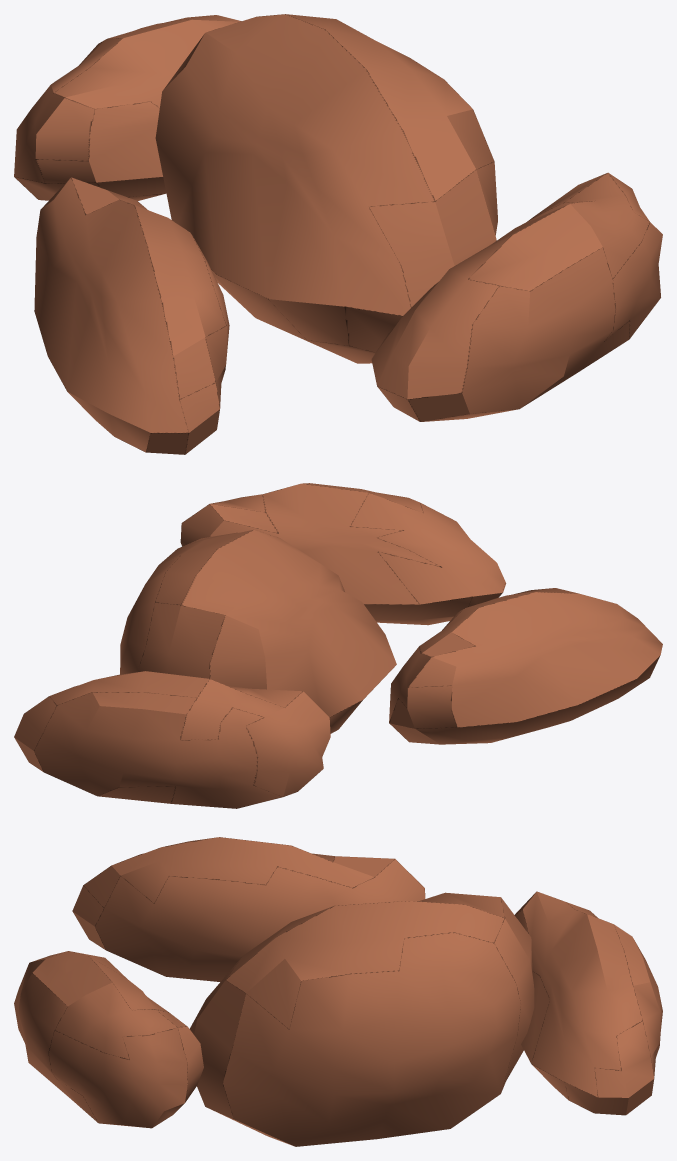
3 renders of one model, top to bottom at view 1: azimuth 30°, elevation 25°; view 2: azimuth 150°, elevation 25°; view 3: azimuth 270°, elevation 25°, orthographic. The views are drawn at different scales.
Parts seen in each view (by area): view 1: Cube.014_Baked; view 2: Cube.014_Baked; view 3: Cube.014_Baked.
Boxes of the visible parts, x1,y1,x2,y2 form: Cube.014_Baked: [14, 14, 662, 454]; Cube.014_Baked: [14, 483, 662, 808]; Cube.014_Baked: [14, 837, 662, 1146].
Size of the model in its own units: 32.49 by 14.64 by 37.22.
1 material, 1 textured.
